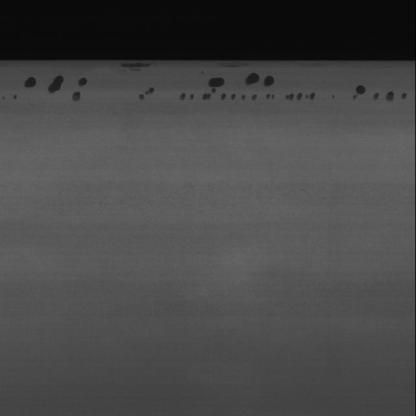oil_spot: (172, 72, 316, 105), (16, 72, 94, 106), (335, 82, 410, 104), (131, 87, 158, 102)
